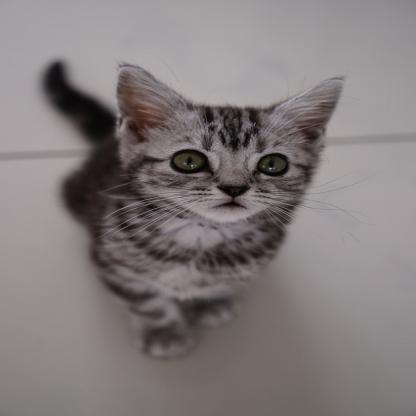cat: (43, 58, 345, 361)
